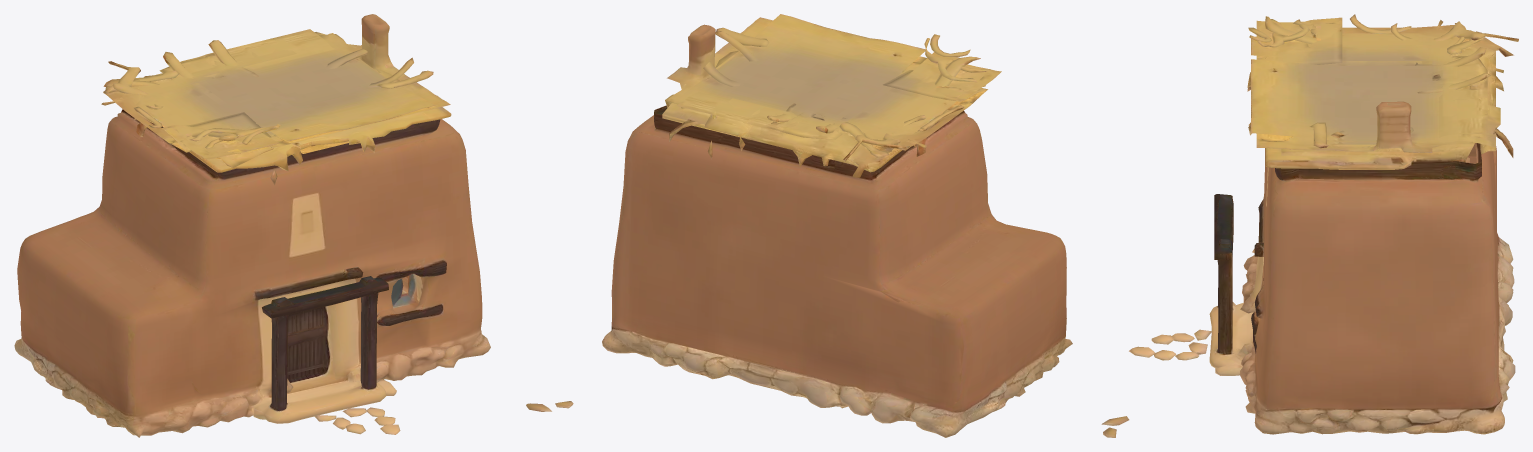
The model's file is dry_village_house.glb.
The picture shows the model from 3 angles, left to right: view 1: azimuth 30°, elevation 25°; view 2: azimuth 150°, elevation 25°; view 3: azimuth 270°, elevation 25°; orthographic projection. The views are drawn at different scales.
Size of the model in its own units: 1.9 by 1.43 by 1.78.
Materials: 1 (1 with a texture image).
